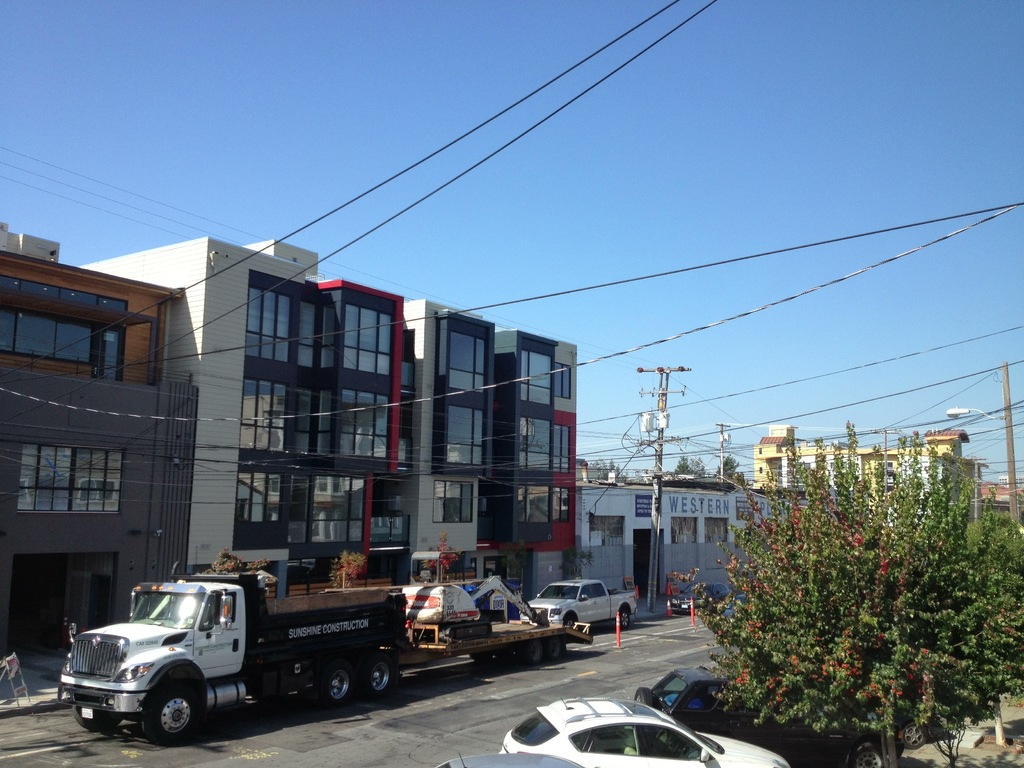car: (632, 643, 887, 768), (494, 685, 800, 768), (525, 562, 657, 635)
truck: (38, 544, 422, 750)
